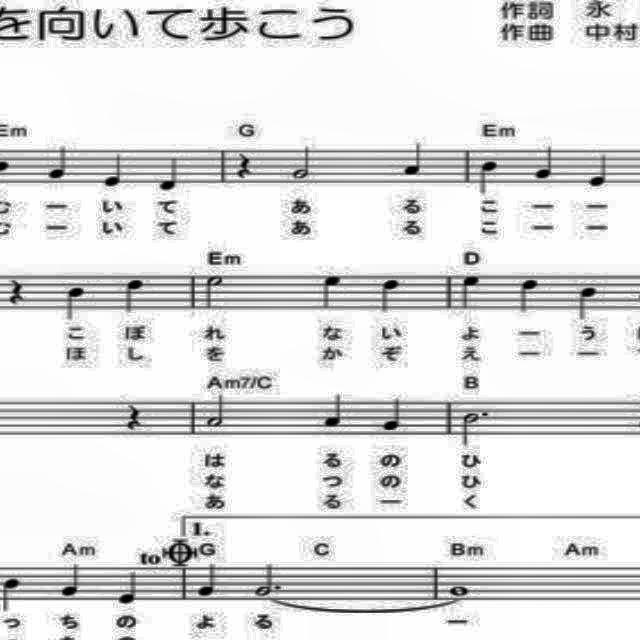Full-note: (446, 584, 476, 600)
Half-dot: (458, 399, 492, 448), (250, 557, 282, 601)
Half-note: (201, 272, 229, 314), (204, 392, 232, 430), (290, 144, 314, 180)
Quarter-note: (377, 390, 409, 440), (570, 276, 602, 324), (372, 273, 404, 319), (398, 130, 427, 178), (102, 148, 132, 192), (513, 278, 547, 316), (474, 153, 502, 199), (318, 269, 346, 315), (157, 152, 187, 194), (44, 139, 72, 183), (123, 274, 151, 318), (61, 284, 90, 326), (586, 151, 614, 191), (60, 560, 88, 600), (194, 560, 222, 600), (532, 140, 558, 183), (0, 569, 24, 615), (322, 388, 346, 432), (458, 274, 482, 314), (116, 568, 140, 608)
Quarter-rest: (7, 273, 29, 311), (123, 401, 145, 434), (234, 146, 253, 182)
